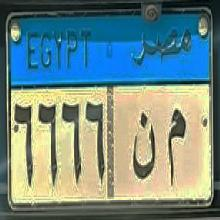6: (12, 96, 34, 186), (36, 98, 58, 187), (85, 97, 107, 184), (60, 95, 81, 185)
meem: (165, 104, 187, 189)
noon: (131, 105, 158, 185)
